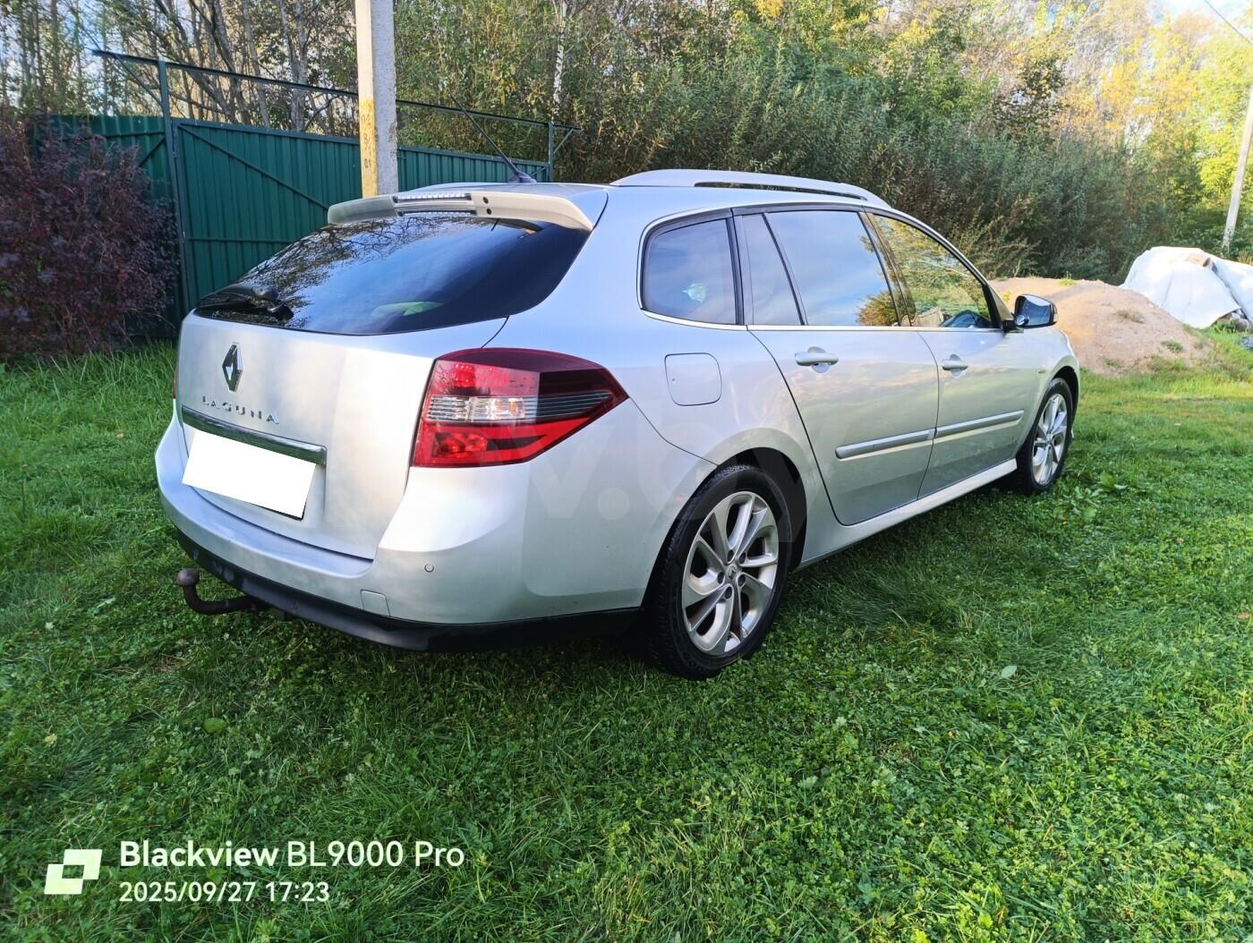Laguna_2010-2015: (153, 167, 1089, 667)
